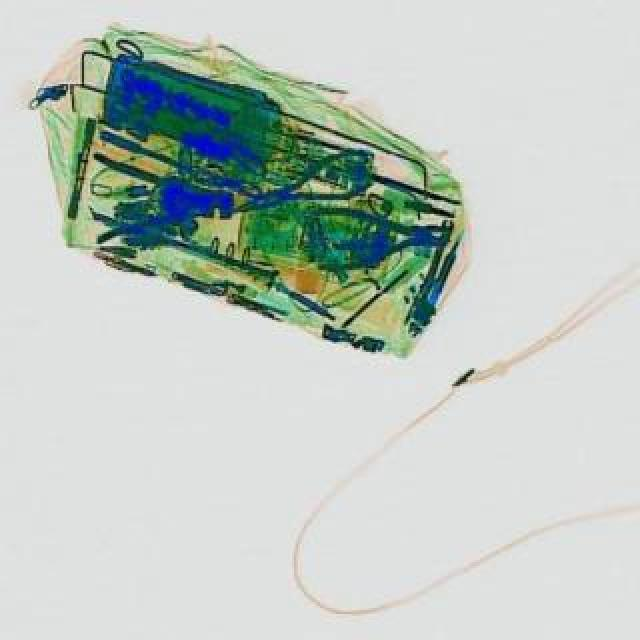wrench: (84, 150, 234, 250), (224, 142, 378, 230), (310, 206, 448, 268)
